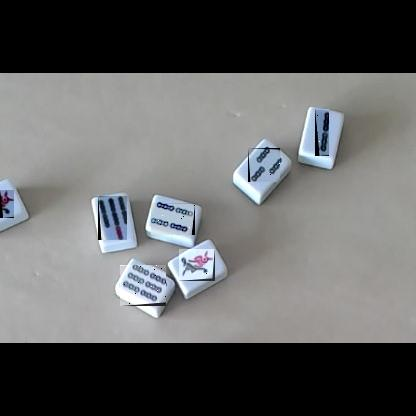1s: (179, 249, 215, 281), (0, 190, 14, 218)
2s: (315, 109, 329, 156)
3s: (248, 148, 280, 182)
4s: (151, 203, 195, 235)
6s: (120, 265, 166, 306)
7s: (98, 195, 127, 240)
